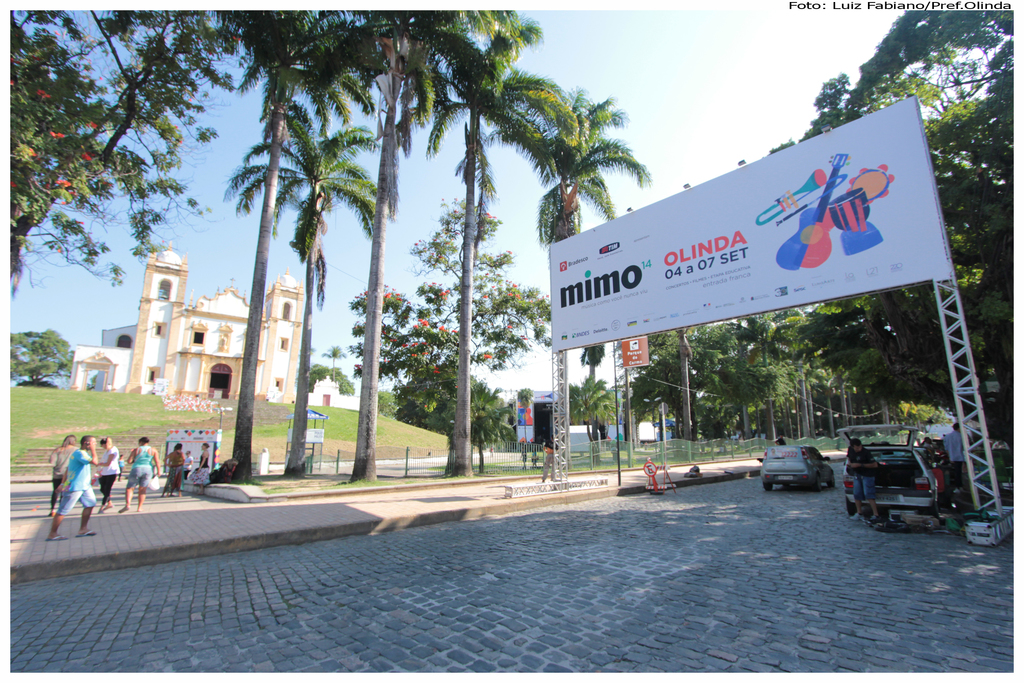Car: (835, 426, 947, 520), (764, 441, 837, 486)
